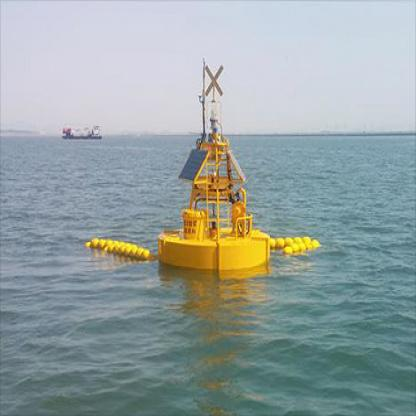buoy: (155, 51, 273, 286)
